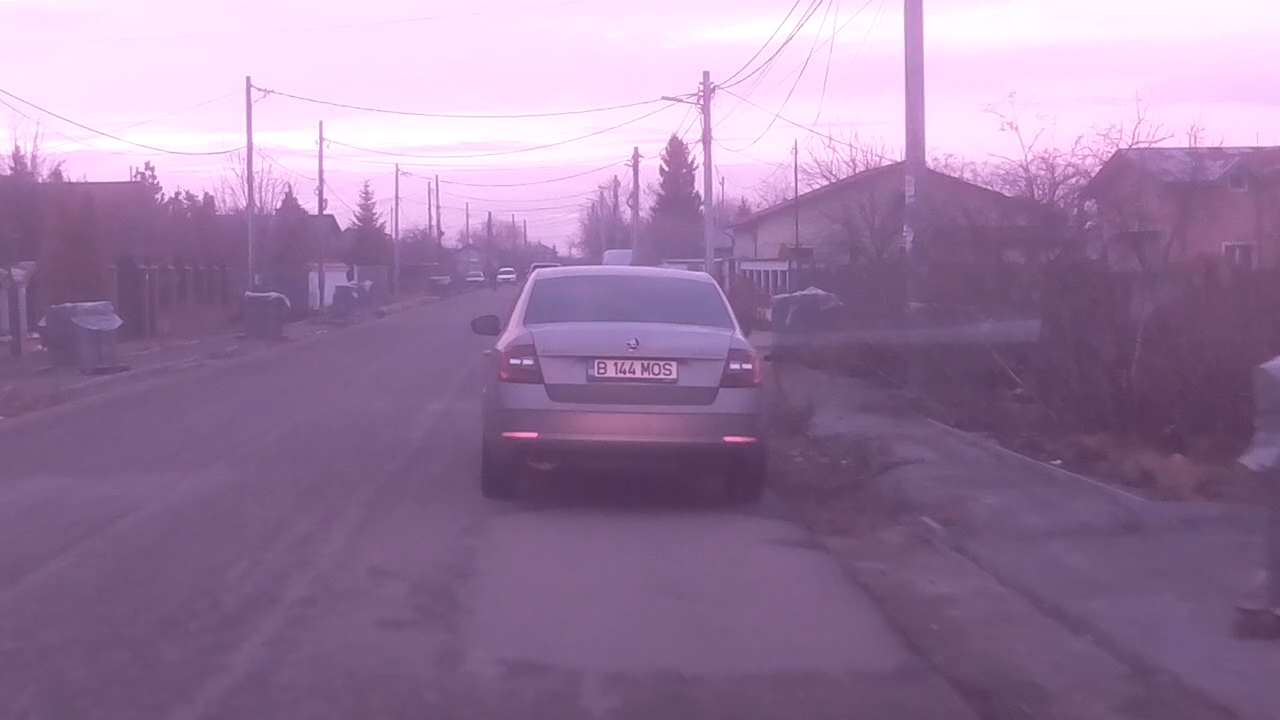license-plate: (586, 358, 679, 380)
